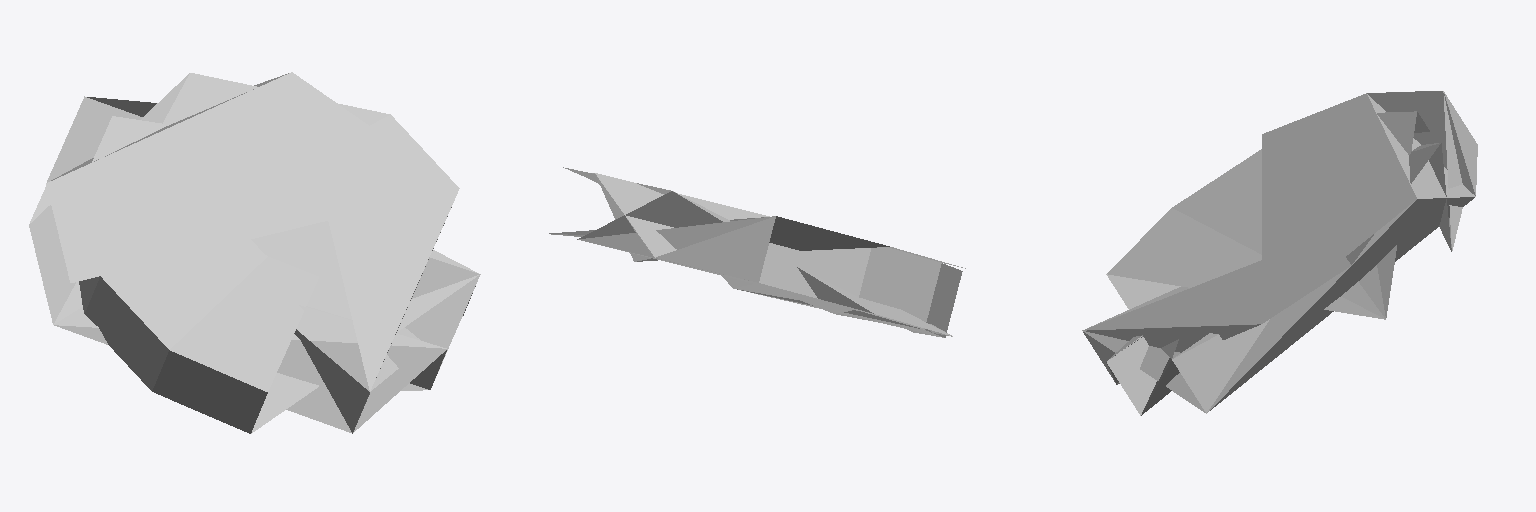
File: pylon.obj
3 renders of one model, left to right at view 1: azimuth 30°, elevation 25°; view 2: azimuth 150°, elevation 25°; view 3: azimuth 270°, elevation 25°, orthographic.
Parts seen in each view (by area): view 1: Pylon_Body; view 2: Pylon_Body; view 3: Pylon_Body.
Boxes of the visible parts, box(x1,y1,x2,y2) form: Pylon_Body: box(29, 72, 480, 433); Pylon_Body: box(549, 167, 965, 337); Pylon_Body: box(1082, 91, 1477, 415).
Size of the model in its own units: 0.8125 by 0.4852 by 0.7154.